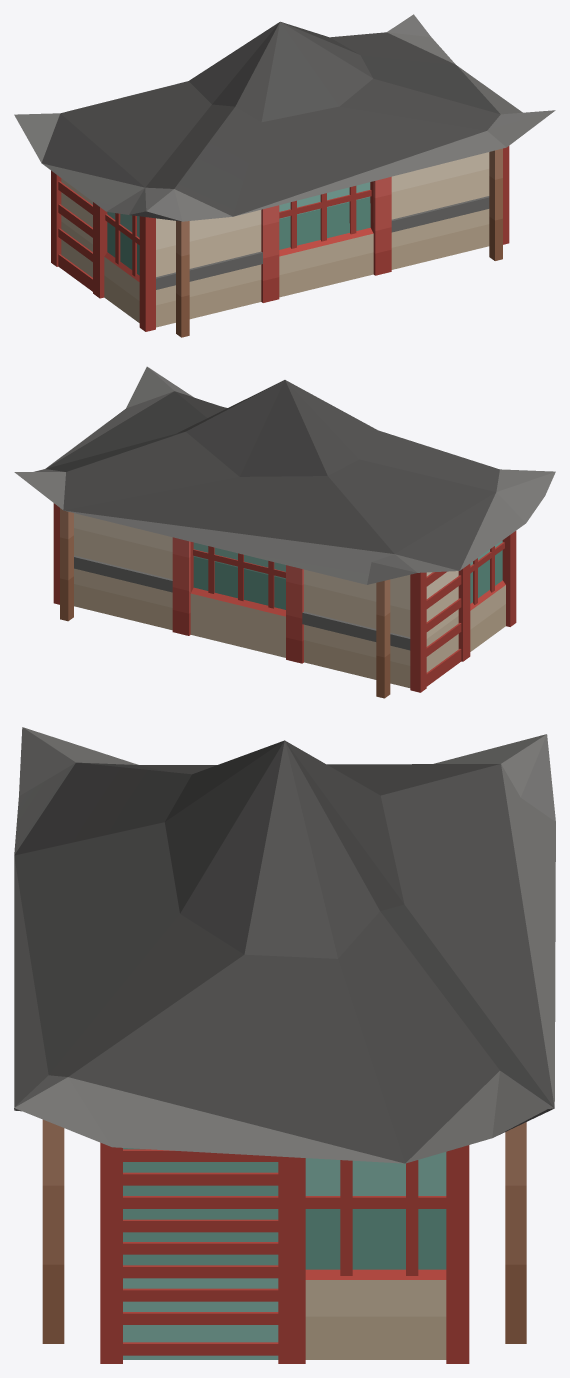
Rendered from building_3.fbx.
The picture shows the model from 3 angles, top to bottom: view 1: azimuth 30°, elevation 25°; view 2: azimuth 150°, elevation 25°; view 3: azimuth 270°, elevation 25°; orthographic projection. The views are drawn at different scales.
Visible parts, largest first — view 1: building_3; view 2: building_3; view 3: building_3.
Boxes of the visible parts, x1=… form: building_3: x1=14, y1=14, x2=555, y2=337; building_3: x1=14, y1=366, x2=555, y2=698; building_3: x1=14, y1=727, x2=555, y2=1363.
Size of the model in its own units: 1142 by 611 by 666.
